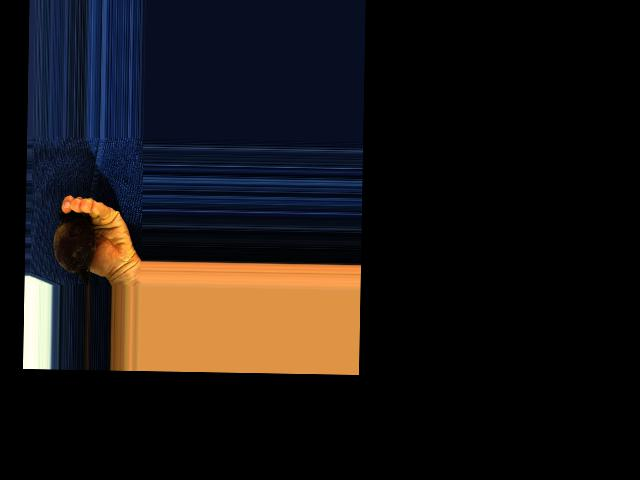beet: (53, 206, 97, 285)
